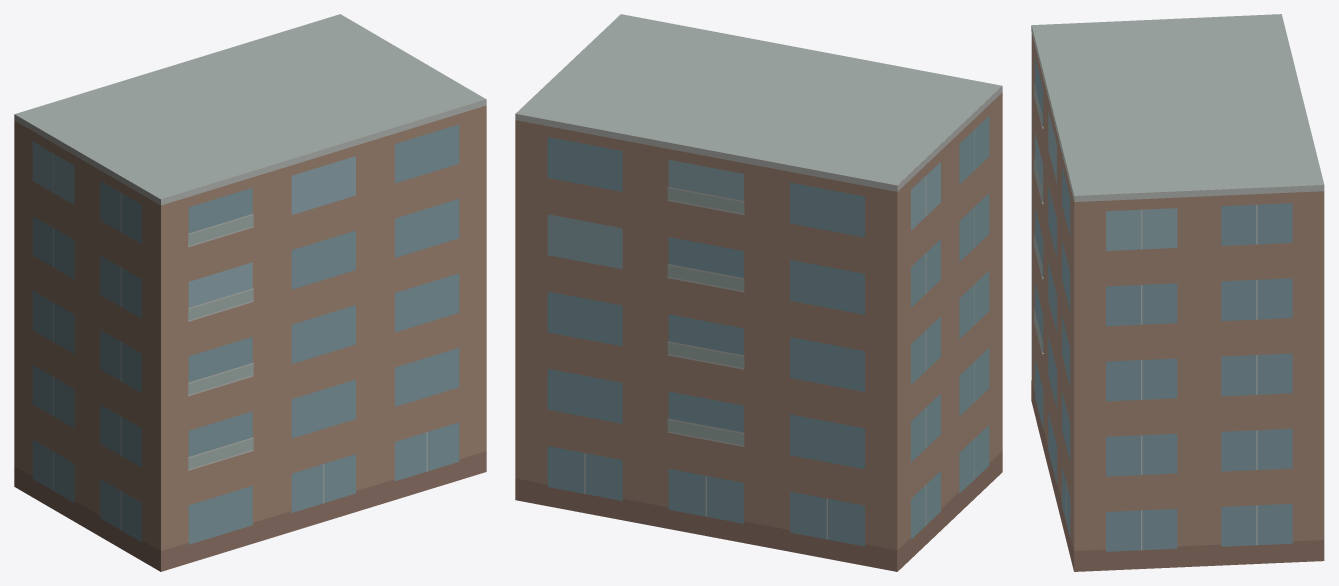
The model's file is survey-upis-32664876.glb.
3 views of the same model, side by side, from view 1: azimuth 30°, elevation 25°; view 2: azimuth 150°, elevation 25°; view 3: azimuth 270°, elevation 25° (orthographic). The views are drawn at different scales.
Parts seen in each view (by area): view 1: survey-upis-32664876.tmp; view 2: survey-upis-32664876.tmp; view 3: survey-upis-32664876.tmp.
Boxes of the visible parts, x1,y1,x2,y2 form: survey-upis-32664876.tmp: [14, 14, 486, 571]; survey-upis-32664876.tmp: [515, 14, 1002, 571]; survey-upis-32664876.tmp: [1031, 14, 1324, 571].
Bounding box in the file's own units: 15.37 × 14.8 × 10.46.
